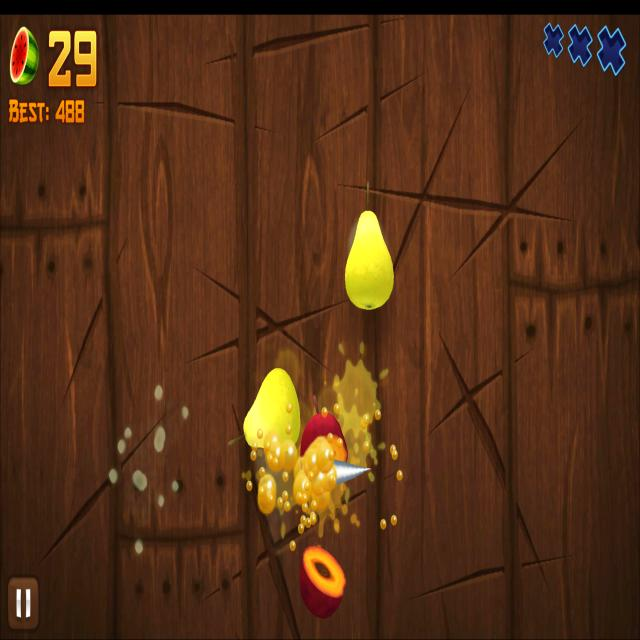fruit: (345, 209, 394, 310), (243, 367, 301, 451)
